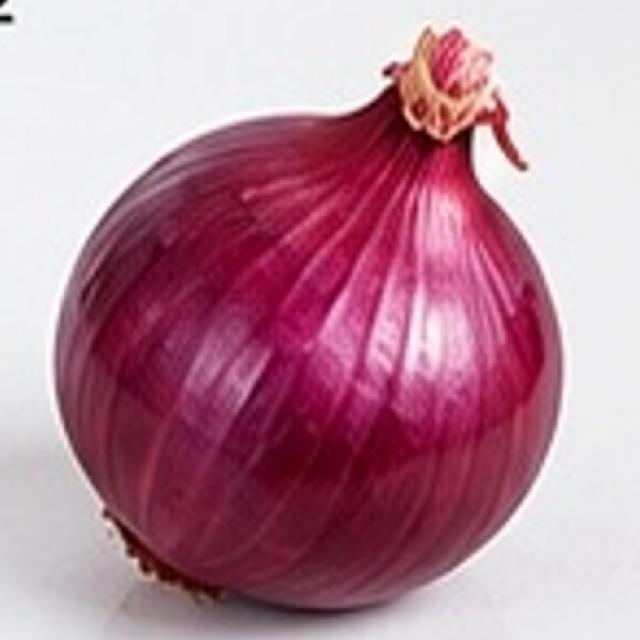healthy: (44, 0, 625, 631)
